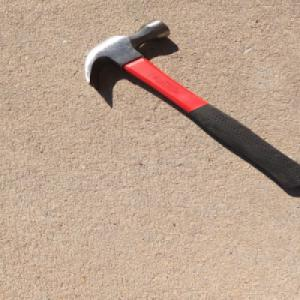Hammer: (81, 18, 300, 198)
